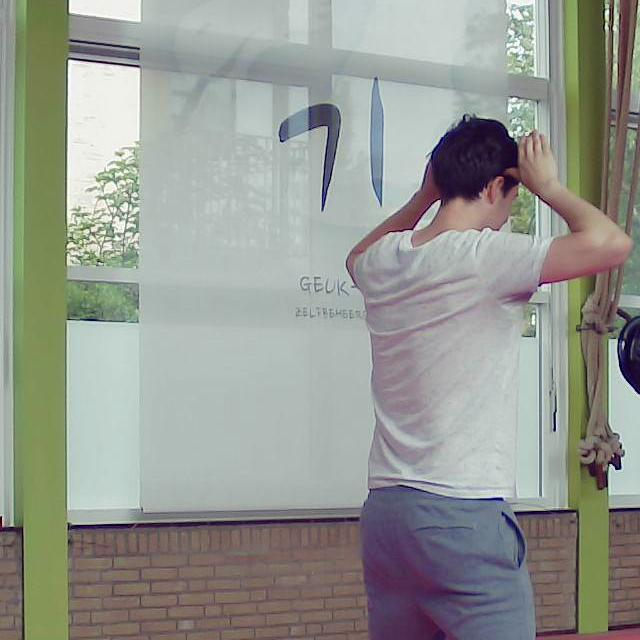paddle: (618, 313, 640, 412)
